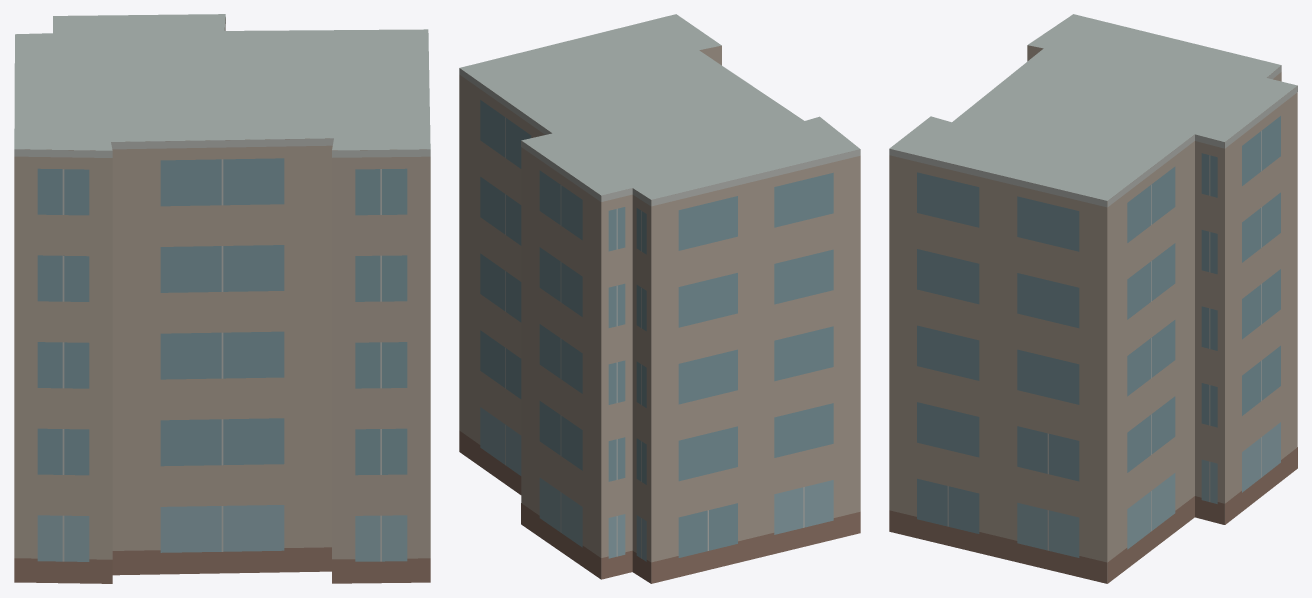
File: survey-upis-32894427.glb
The picture shows the model from 3 angles, left to right: view 1: azimuth 30°, elevation 25°; view 2: azimuth 150°, elevation 25°; view 3: azimuth 270°, elevation 25°; orthographic projection. The views are drawn at different scales.
Parts seen in each view (by area): view 1: survey-upis-32894427.tmp; view 2: survey-upis-32894427.tmp; view 3: survey-upis-32894427.tmp.
Boxes of the visible parts, x1=… form: survey-upis-32894427.tmp: x1=14, y1=14, x2=430, y2=583; survey-upis-32894427.tmp: x1=459, y1=14, x2=860, y2=583; survey-upis-32894427.tmp: x1=889, y1=14, x2=1297, y2=583.
Bounding box in the file's own units: 14.98 × 14.3 × 13.83.
